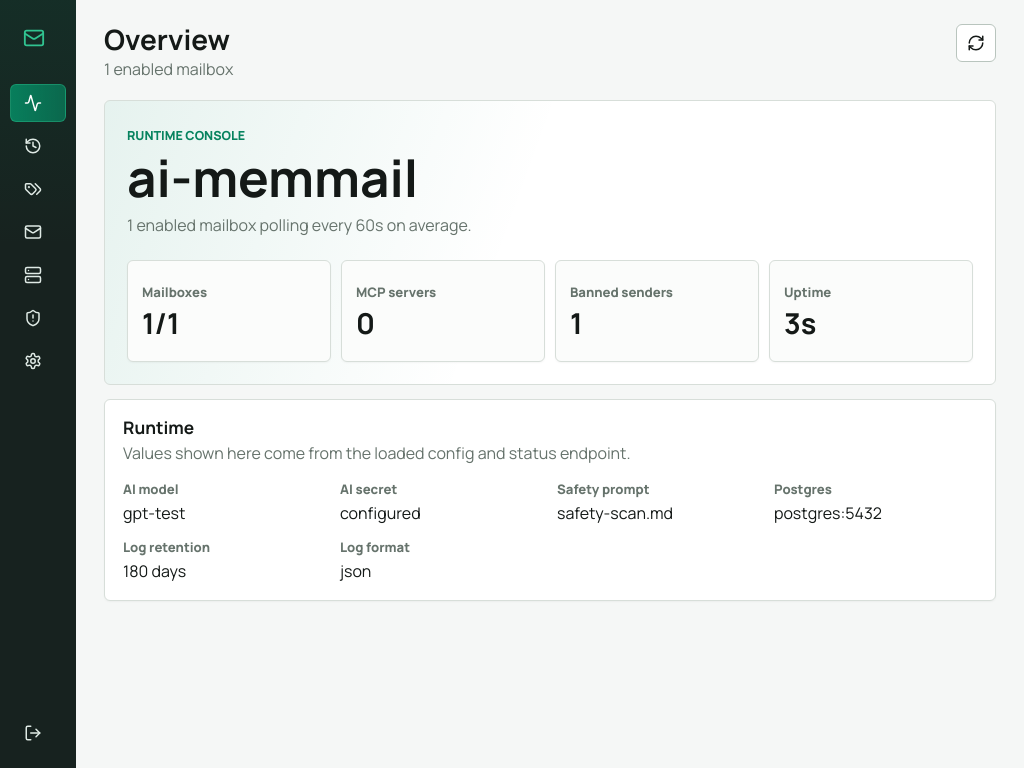
Test: App config › shows empty MCP assignment state for mailboxes
Click the button "Mailboxes".
click(38, 232)  # box [10, 213, 66, 251]
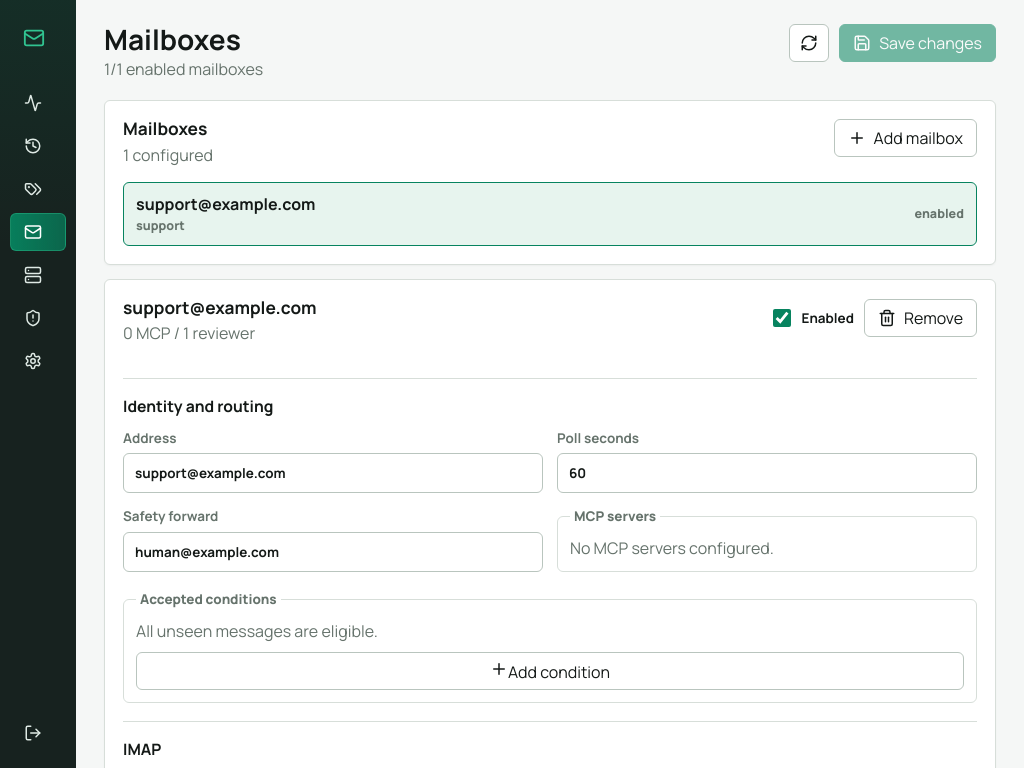
Now the text "No MCP servers configured." is shown, box [570, 538, 774, 560]
